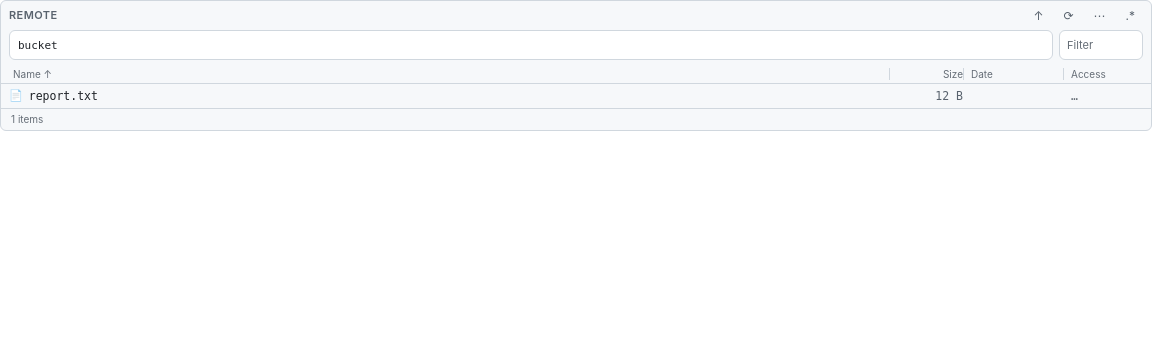
S3 public URL clipboard feedback › shows a visible error when the system clipboard rejects the write
The image size is (1152, 341).
Click the option "📄 report.txt 12 B …": (63, 96) [9, 89, 1078, 103]
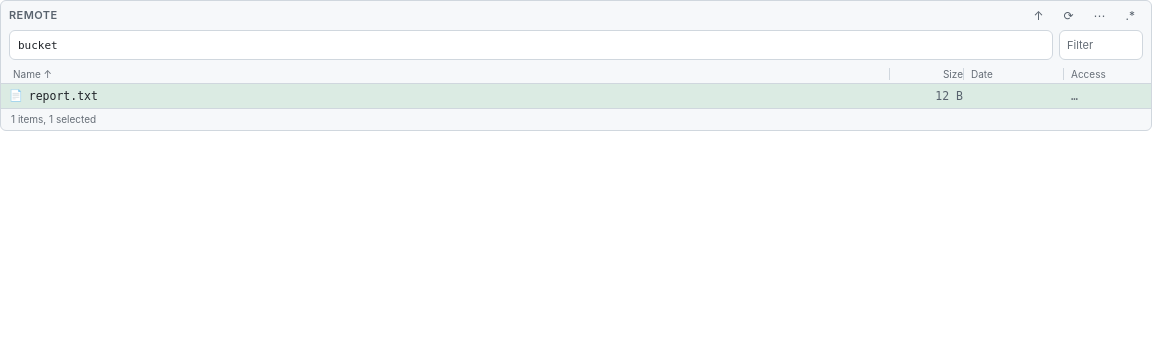
Click the button named "Remote pane actions": (1100, 16) [1086, 6, 1114, 25]
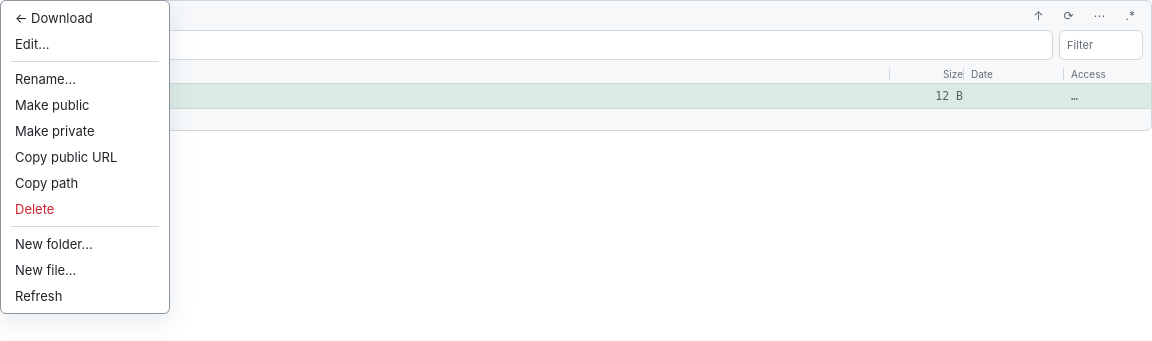
Click the menu item "Copy public URL": (85, 157) [5, 144, 165, 170]
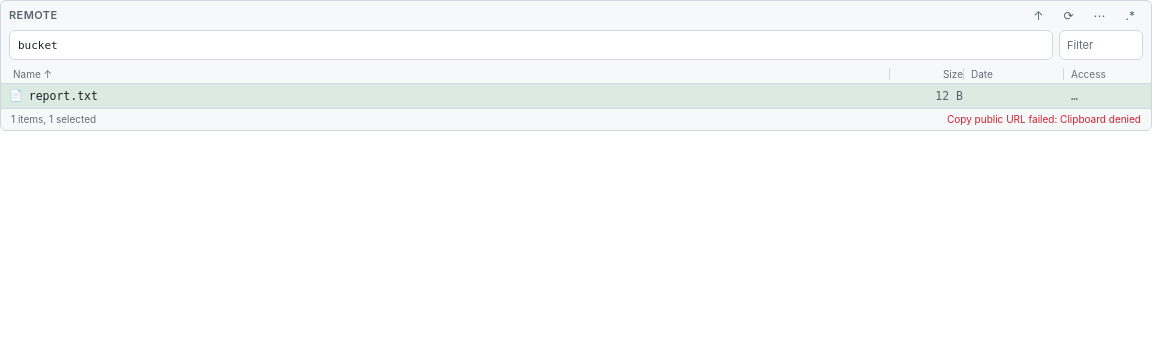
Check: the message reads "Copy public URL failed: Clipboard denied", box [947, 113, 1141, 125]
